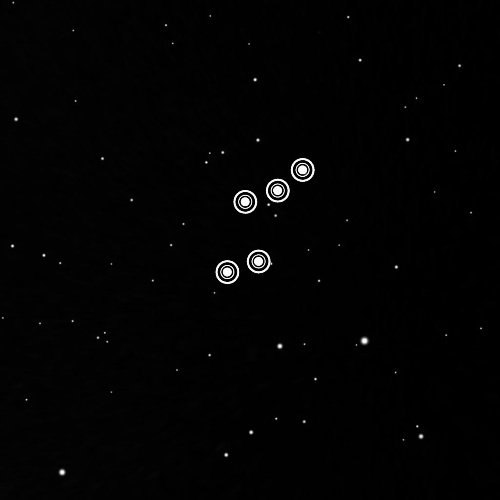lyra: (205, 149, 318, 292)
